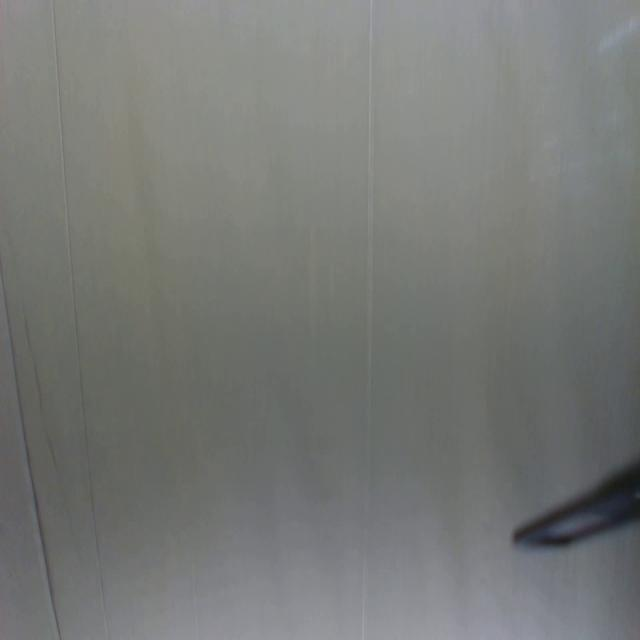crease: (50, 0, 113, 639), (2, 259, 62, 640), (359, 0, 374, 640)
